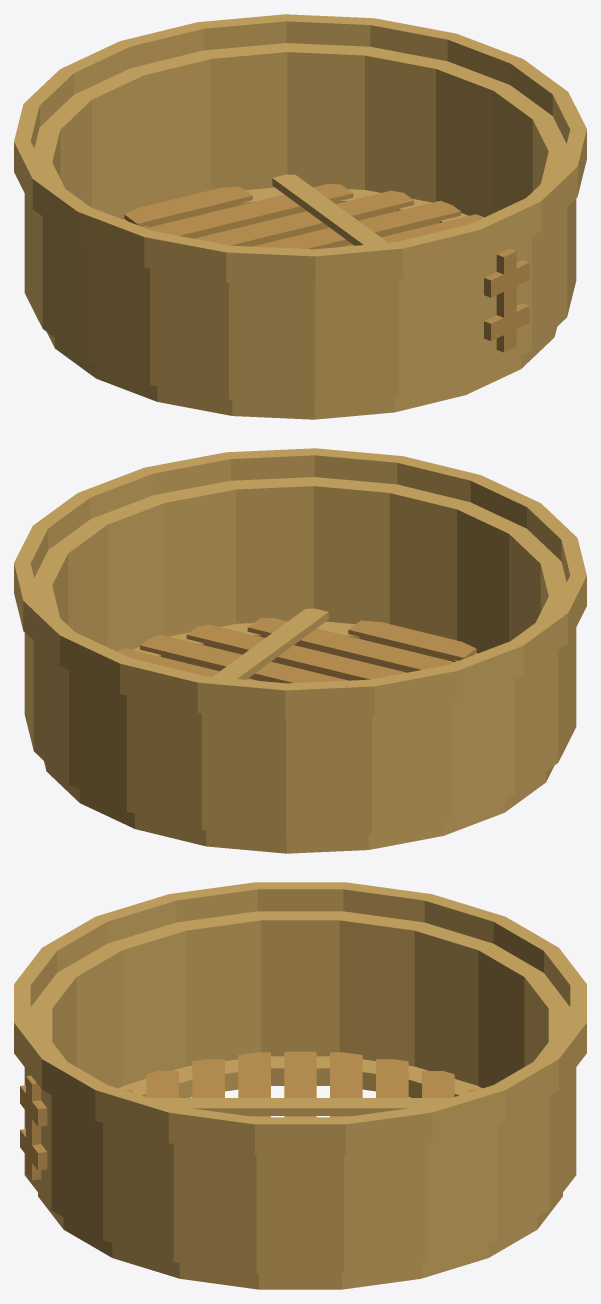
File: SM_Cook_Steamer_Pale_01.fbx
3 views of the same model, one above another, from view 1: azimuth 30°, elevation 25°; view 2: azimuth 150°, elevation 25°; view 3: azimuth 270°, elevation 25° (orthographic).
Visible parts, largest first — view 1: SM_Cook_Steamer_Pale_01; view 2: SM_Cook_Steamer_Pale_01; view 3: SM_Cook_Steamer_Pale_01.
Boxes of the visible parts, x1,y1,x2,y2 form: SM_Cook_Steamer_Pale_01: [14, 14, 586, 419]; SM_Cook_Steamer_Pale_01: [14, 448, 586, 853]; SM_Cook_Steamer_Pale_01: [14, 882, 586, 1289].
Bounding box in the file's own units: 0.237 × 0.08 × 0.237.
Materials: 1 (1 with a texture image).
